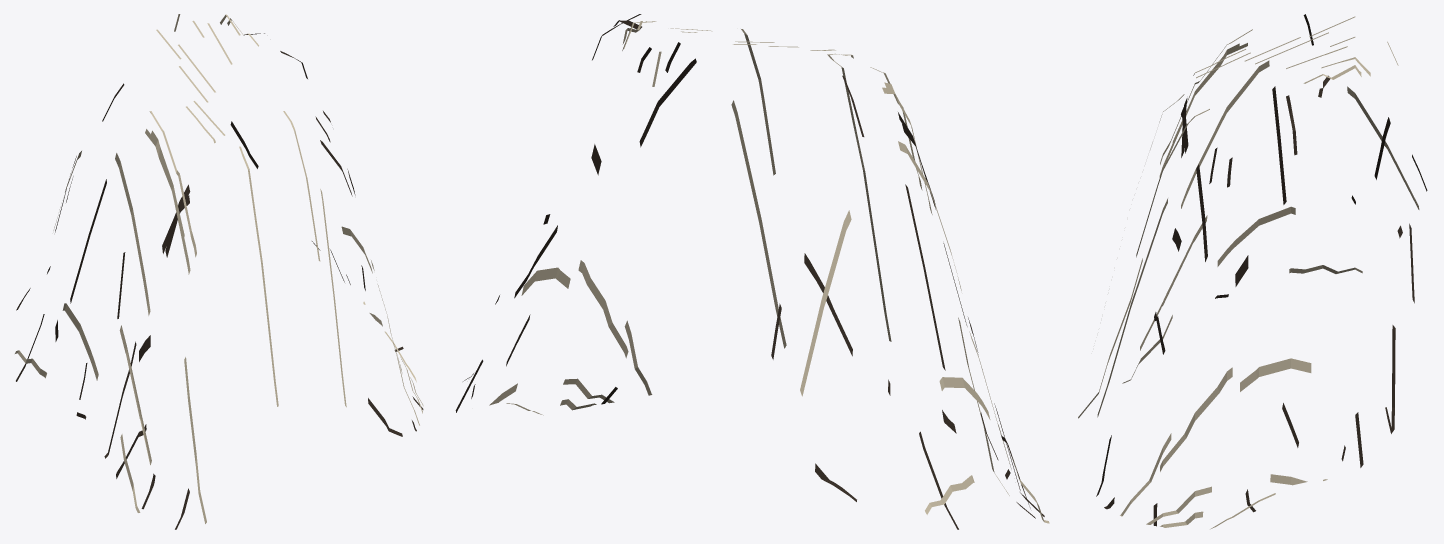
File: dam_eye_fall_spire_east_detail1.glb
3 renders of one model, left to right at view 1: azimuth 30°, elevation 25°; view 2: azimuth 150°, elevation 25°; view 3: azimuth 270°, elevation 25°, orthographic. The views are drawn at different scales.
Visible parts, largest first — view 1: dam_eye_fall_spire_east_detail1; view 2: dam_eye_fall_spire_east_detail1; view 3: dam_eye_fall_spire_east_detail1.
Part boxes in pixels (bbox=[...]): dam_eye_fall_spire_east_detail1: bbox=[15, 14, 423, 529]; dam_eye_fall_spire_east_detail1: bbox=[455, 14, 1049, 529]; dam_eye_fall_spire_east_detail1: bbox=[1078, 14, 1427, 529].
Bounding box in the file's own units: 28.91 × 30.82 × 21.97.
